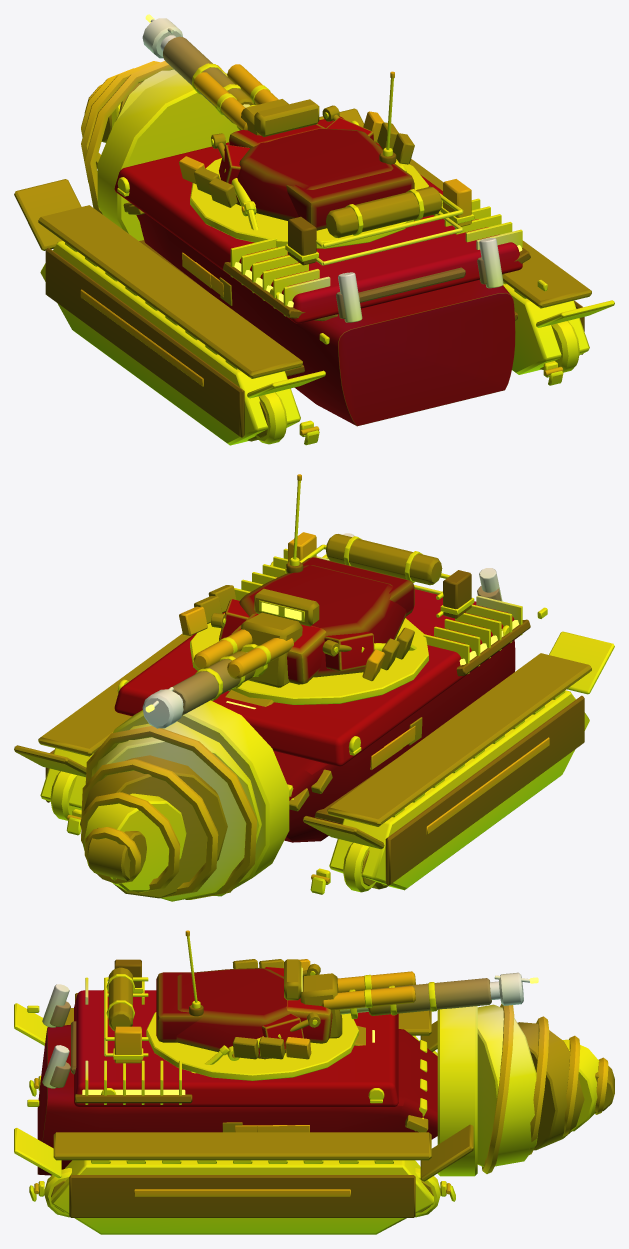
File: SubterraneanMole.fbx
The picture shows the model from 3 angles, top to bottom: view 1: azimuth 30°, elevation 25°; view 2: azimuth 150°, elevation 25°; view 3: azimuth 270°, elevation 25°; orthographic projection. The views are drawn at different scales.
Visible parts, largest first — view 1: SubterraneanMole_SubterraneanMole_LightArmor, SubterraneanMole_SubterraneanMole_PrimaryArmor, SubterraneanMole_SubterraneanMole_Gunmetal, SubterraneanMole_SubterraneanMole_Tread, SubterraneanMole_SubterraneanMole_Warning, SubterraneanMoleTurret_BaseShell, SubterraneanMole_SubterraneanMole_WheelRim; view 2: SubterraneanMole_SubterraneanMole_LightArmor, SubterraneanMole_SubterraneanMole_Gunmetal, SubterraneanMole_SubterraneanMole_PrimaryArmor, SubterraneanMole_SubterraneanMole_Warning, SubterraneanMole_SubterraneanMole_Tread, SubterraneanMole_SubterraneanMole_WheelRim, SubterraneanMoleTurret_BaseShell, SubterraneanMoleFlamer_FlamerManifold, SubterraneanMole_SubterraneanMole_Emissive; view 3: SubterraneanMole_SubterraneanMole_LightArmor, SubterraneanMole_SubterraneanMole_PrimaryArmor, SubterraneanMole_SubterraneanMole_Gunmetal, SubterraneanMole_SubterraneanMole_Tread, SubterraneanMole_SubterraneanMole_Warning, SubterraneanMoleTurret_BaseShell, SubterraneanMole_SubterraneanMole_WheelRim, SubterraneanMoleFlamer_FlamerManifold, SubterraneanMole_SubterraneanMole_Emissive.
Part boxes in pixels (x1,y1,x2,y2): SubterraneanMole_SubterraneanMole_LightArmor: (14,36,591,378); SubterraneanMole_SubterraneanMole_PrimaryArmor: (45,163,584,437); SubterraneanMole_SubterraneanMole_Gunmetal: (97,18,579,445); SubterraneanMole_SubterraneanMole_Tread: (40,112,614,445); SubterraneanMole_SubterraneanMole_Warning: (80,61,563,435); SubterraneanMoleTurret_BaseShell: (236,128,393,220); SubterraneanMole_SubterraneanMole_WheelRim: (101,81,543,441); SubterraneanMole_SubterraneanMole_LightArmor: (14,534,591,849); SubterraneanMole_SubterraneanMole_Gunmetal: (50,533,575,901); SubterraneanMole_SubterraneanMole_PrimaryArmor: (45,557,584,885); SubterraneanMole_SubterraneanMole_Warning: (67,532,549,899); SubterraneanMole_SubterraneanMole_Tread: (40,536,614,890); SubterraneanMole_SubterraneanMole_WheelRim: (80,613,387,898); SubterraneanMoleTurret_BaseShell: (239,565,406,677); SubterraneanMoleFlamer_FlamerManifold: (241,612,302,687); SubterraneanMole_SubterraneanMole_Emissive: (145,602,519,712); SubterraneanMole_SubterraneanMole_LightArmor: (50,959,491,1181); SubterraneanMole_SubterraneanMole_PrimaryArmor: (37,959,437,1217); SubterraneanMole_SubterraneanMole_Gunmetal: (27,966,599,1217); SubterraneanMole_SubterraneanMole_Tread: (14,971,433,1234); SubterraneanMole_SubterraneanMole_Warning: (34,959,608,1196); SubterraneanMoleTurret_BaseShell: (175,968,290,1059); SubterraneanMole_SubterraneanMole_WheelRim: (51,963,614,1212); SubterraneanMoleFlamer_FlamerManifold: (300,973,342,1038); SubterraneanMole_SubterraneanMole_Emissive: (82,968,538,1094).
Size of the model in its own units: 283 by 227 by 481.
